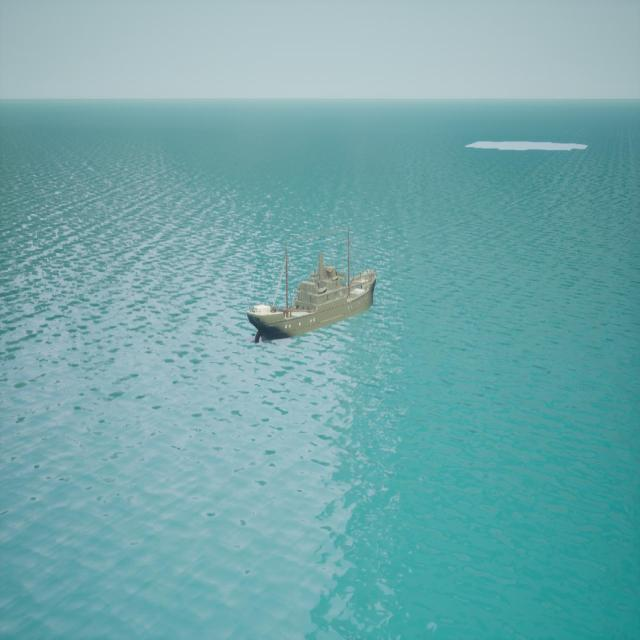fishing ship: (249, 258, 378, 341)
